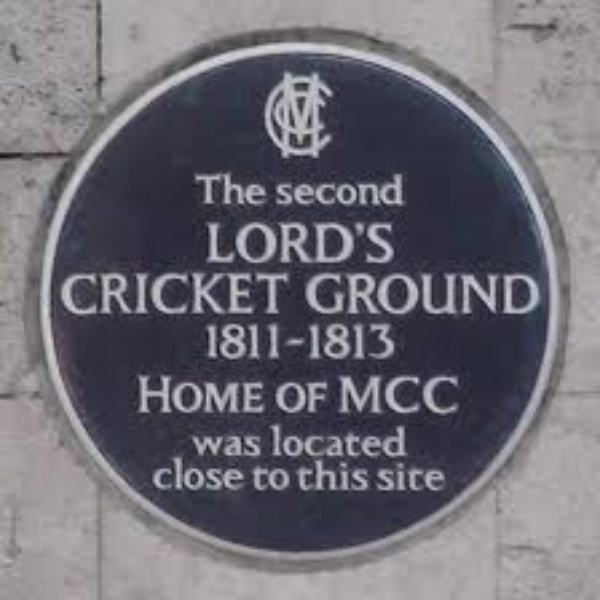text: (305, 268, 320, 317), (321, 268, 336, 317), (337, 268, 352, 317), (353, 268, 368, 317), (369, 268, 384, 317), (385, 268, 400, 317), (401, 268, 416, 317), (417, 268, 432, 317), (433, 268, 448, 317), (449, 268, 464, 317), (465, 268, 480, 317), (481, 268, 496, 317), (497, 268, 512, 317), (513, 268, 528, 317), (209, 220, 224, 266), (225, 220, 240, 266), (241, 220, 256, 266), (257, 220, 272, 266), (273, 220, 288, 266), (289, 220, 304, 266), (305, 220, 320, 266), (321, 220, 336, 266), (337, 220, 352, 266), (353, 220, 368, 266), (369, 220, 384, 266), (65, 271, 80, 317), (81, 271, 96, 317), (97, 271, 112, 317), (113, 271, 128, 317), (129, 271, 144, 317), (145, 271, 160, 317), (161, 271, 176, 317), (177, 271, 192, 317), (193, 271, 208, 317), (209, 271, 224, 317), (225, 271, 240, 317), (241, 271, 256, 317), (257, 271, 272, 317), (273, 271, 288, 317), (353, 373, 368, 416), (369, 373, 384, 416), (385, 373, 400, 416), (401, 373, 416, 416), (417, 373, 432, 416), (433, 373, 448, 416), (529, 268, 542, 317), (338, 373, 352, 416), (161, 453, 176, 493), (177, 453, 192, 493), (193, 453, 208, 493), (209, 453, 224, 493), (225, 453, 240, 493), (273, 421, 288, 459), (289, 421, 304, 459), (305, 421, 320, 459), (321, 421, 336, 459), (337, 421, 352, 459), (353, 421, 368, 459), (369, 421, 384, 459), (385, 421, 400, 459), (209, 322, 224, 359), (225, 322, 240, 359), (241, 322, 256, 359), (257, 322, 272, 359), (273, 322, 288, 359), (289, 322, 304, 359), (305, 322, 320, 359), (321, 322, 336, 359), (337, 322, 352, 359), (353, 322, 368, 359), (369, 322, 384, 359), (145, 376, 160, 413), (161, 376, 176, 413), (177, 376, 192, 413), (193, 376, 208, 413), (209, 376, 224, 413), (225, 376, 240, 413), (241, 376, 256, 413), (193, 172, 208, 207), (209, 172, 224, 207), (225, 172, 240, 207), (241, 172, 256, 207), (289, 381, 304, 416), (305, 381, 320, 416), (289, 172, 304, 207), (305, 172, 320, 207), (321, 172, 336, 207), (337, 172, 352, 207), (353, 172, 368, 207), (369, 172, 384, 207), (385, 172, 400, 207), (305, 459, 320, 493), (321, 459, 336, 493), (337, 459, 352, 493), (274, 381, 288, 416), (385, 461, 400, 493), (401, 461, 416, 493), (417, 461, 432, 493), (353, 459, 367, 493), (385, 322, 397, 359), (257, 464, 272, 493), (273, 464, 288, 493), (449, 373, 459, 416), (276, 172, 288, 207), (385, 220, 394, 266), (433, 461, 445, 493), (193, 432, 208, 456), (209, 432, 224, 456), (225, 432, 240, 456), (241, 432, 256, 456), (151, 453, 160, 493), (373, 461, 384, 493), (257, 376, 266, 413), (257, 172, 266, 207), (321, 381, 330, 416), (401, 421, 408, 459), (137, 376, 144, 413), (241, 453, 247, 493), (59, 271, 64, 317), (298, 459, 304, 493), (250, 464, 256, 493), (204, 322, 208, 359), (257, 432, 263, 456), (401, 172, 405, 207), (188, 432, 192, 456), (289, 464, 292, 493), (303, 268, 304, 317), (207, 220, 208, 266), (289, 271, 290, 317), (271, 421, 272, 459), (191, 172, 192, 207)
